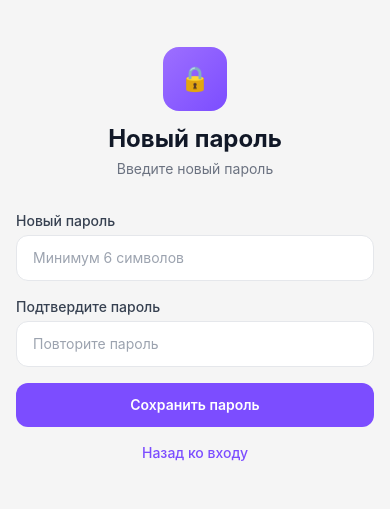
ResetPassword › показывает ошибку при невалидном токене
Type "newpass123" into the password field with placeholder "Минимум 6 символов" at (195, 258), box [16, 235, 374, 281]
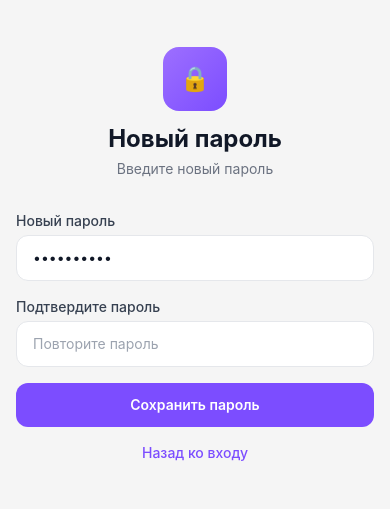
Type "newpass123" into the password field with placeholder "Повторите пароль" at (195, 344), box [16, 321, 374, 367]
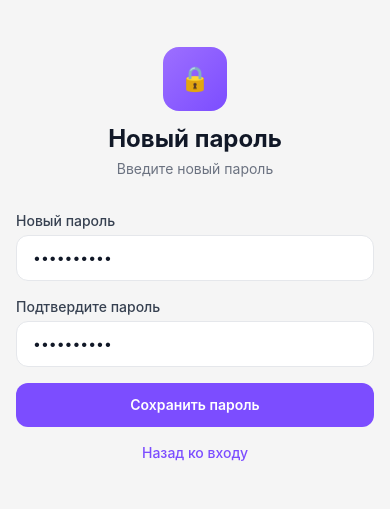
Click the button "Сохранить пароль" at (195, 405), box [16, 383, 374, 427]
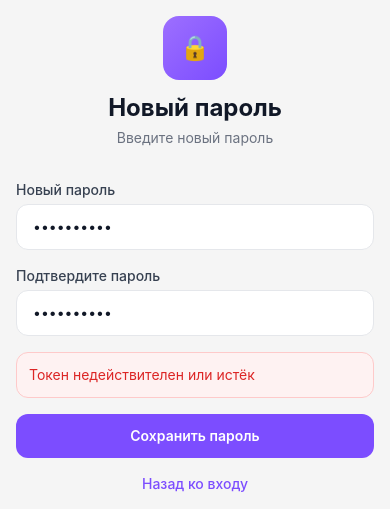
Check: the text "Токен недействителен или истёк" is shown, box [16, 352, 374, 398]
